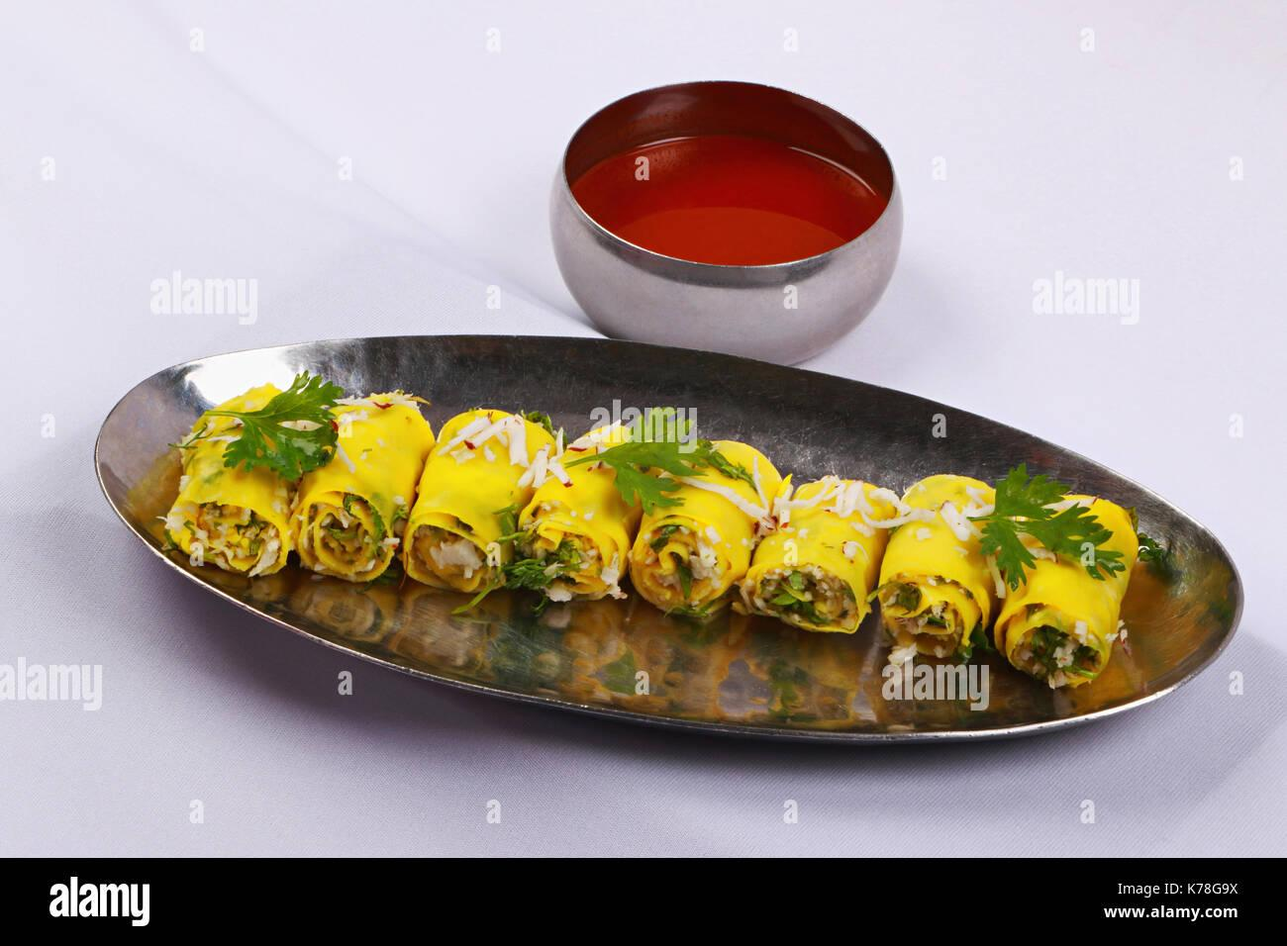khandvi: (168, 386, 1146, 693)
